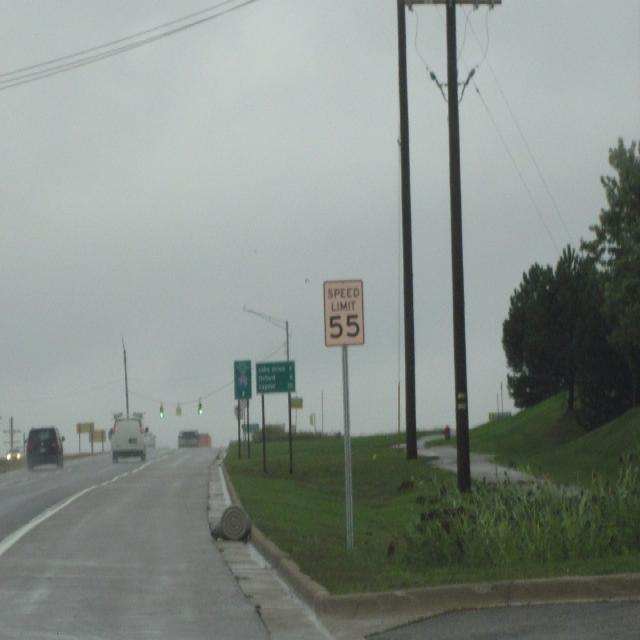regulatory: (322, 275, 368, 347)
